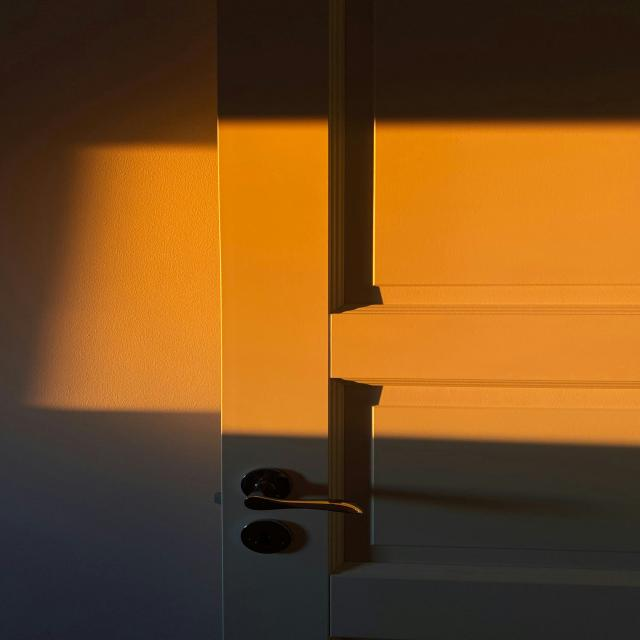door-handle: (241, 469, 363, 514)
